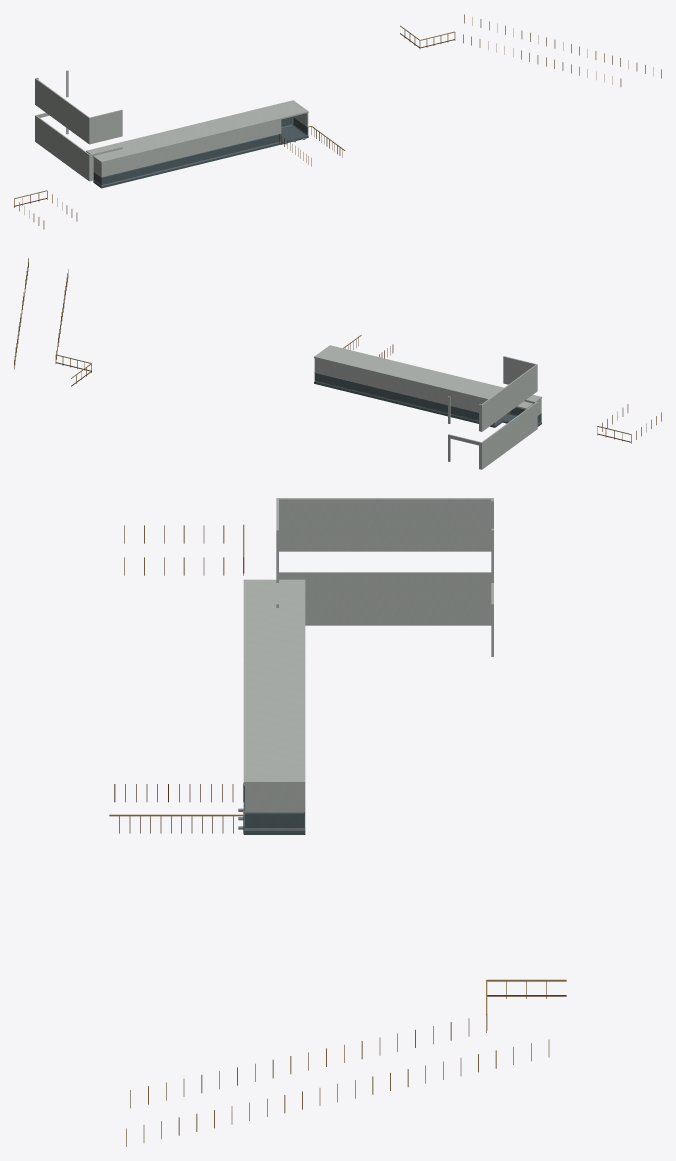
Rendered from QUIET_D16_STAFF_RECEIVING_r001.glb.
3 views of the same model, one above another, from view 1: azimuth 30°, elevation 25°; view 2: azimuth 150°, elevation 25°; view 3: azimuth 270°, elevation 25° (orthographic). The views are drawn at different scales.
Parts seen in each view (by area): view 1: PATCH_lobby_wall_staff_white_paint_y12, Q16_Canopy, Q16_Edge1_Enamel, Q16_Edge1_Dado, PATCH_QG_Batch_120, Q16_MissingFloor, PATCH_QG_Batch_126, Q16_Edge1_Toe; view 2: PATCH_lobby_wall_staff_white_paint_y12, Q16_Canopy, Q16_Edge0_Enamel, Q16_Edge0_Dado, PATCH_QG_Batch_120, Q16_MissingFloor; view 3: PATCH_lobby_wall_staff_white_paint_y12, Q16_Canopy, PATCH_QG_Batch_120, Q16_Edge2_Enamel, Q16_Edge2_Dado.
Part boxes in pixels (<box>): PATCH_lobby_wall_staff_white_paint_y12: <box>35,70,122,181</box>; Q16_Canopy: <box>86,100,308,163</box>; Q16_Edge1_Enamel: <box>101,119,281,176</box>; Q16_Edge1_Dado: <box>101,134,281,184</box>; PATCH_QG_Batch_120: <box>14,14,661,229</box>; Q16_MissingFloor: <box>93,125,308,188</box>; PATCH_QG_Batch_126: <box>14,33,454,206</box>; Q16_Edge1_Toe: <box>101,141,281,186</box>; PATCH_lobby_wall_staff_white_paint_y12: <box>448,356,537,469</box>; Q16_Canopy: <box>314,345,541,409</box>; Q16_Edge0_Enamel: <box>315,358,486,412</box>; Q16_Edge0_Dado: <box>315,373,494,424</box>; PATCH_QG_Batch_120: <box>14,258,661,443</box>; Q16_MissingFloor: <box>314,381,541,427</box>; PATCH_lobby_wall_staff_white_paint_y12: <box>276,498,493,656</box>; Q16_Canopy: <box>243,579,305,784</box>; PATCH_QG_Batch_120: <box>109,524,566,1146</box>; Q16_Edge2_Enamel: <box>245,784,303,812</box>; Q16_Edge2_Dado: <box>245,813,303,828</box>.
Bounding box in the file's own units: 78.74 × 7.94 × 25.2.
9 materials, 8 textured.
